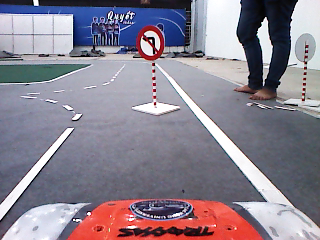ban: (135, 25, 166, 61)
